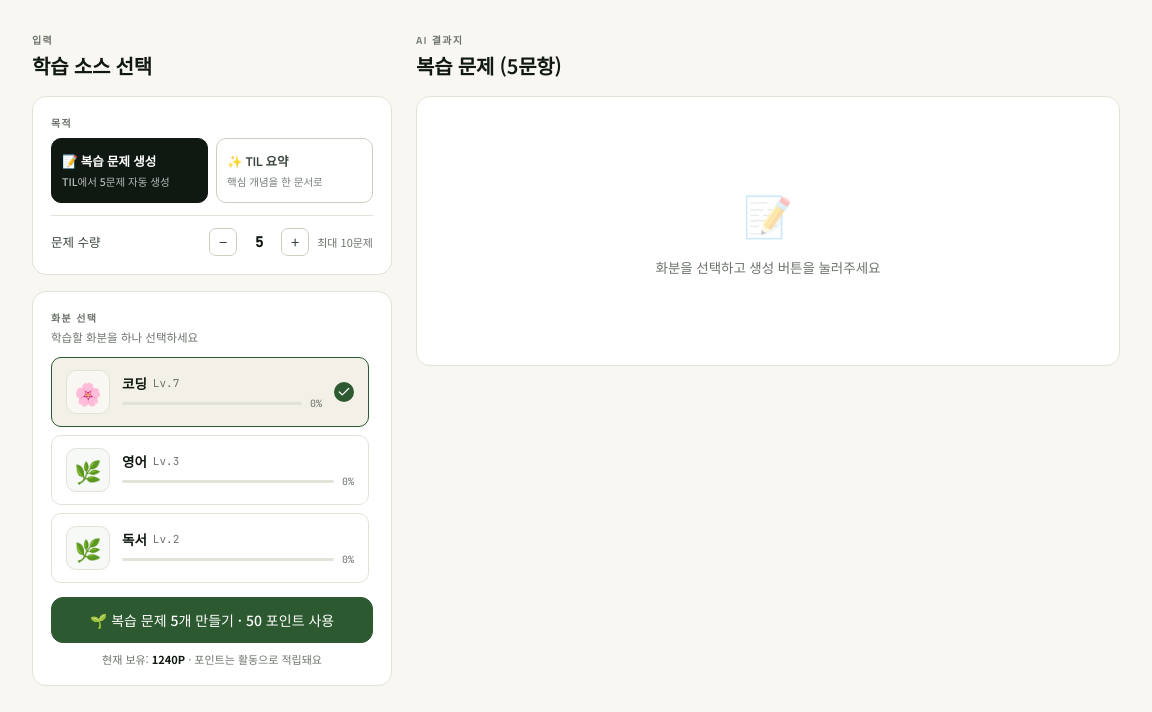
Test: 생성 전/후 화면 › 생성 버튼 클릭 후 로딩 메시지가 표시된다
Expected: the text "코딩" is shown, 122,373 -> 147,393
// 버튼 존재 여부가 아닌 화분 목록 로딩 완료를 기다려 potId 설정 보장
Click the button "🌱 복습 문제 5개 만들기 · 50 포인트 사용": (212, 620) 51,597 -> 373,643
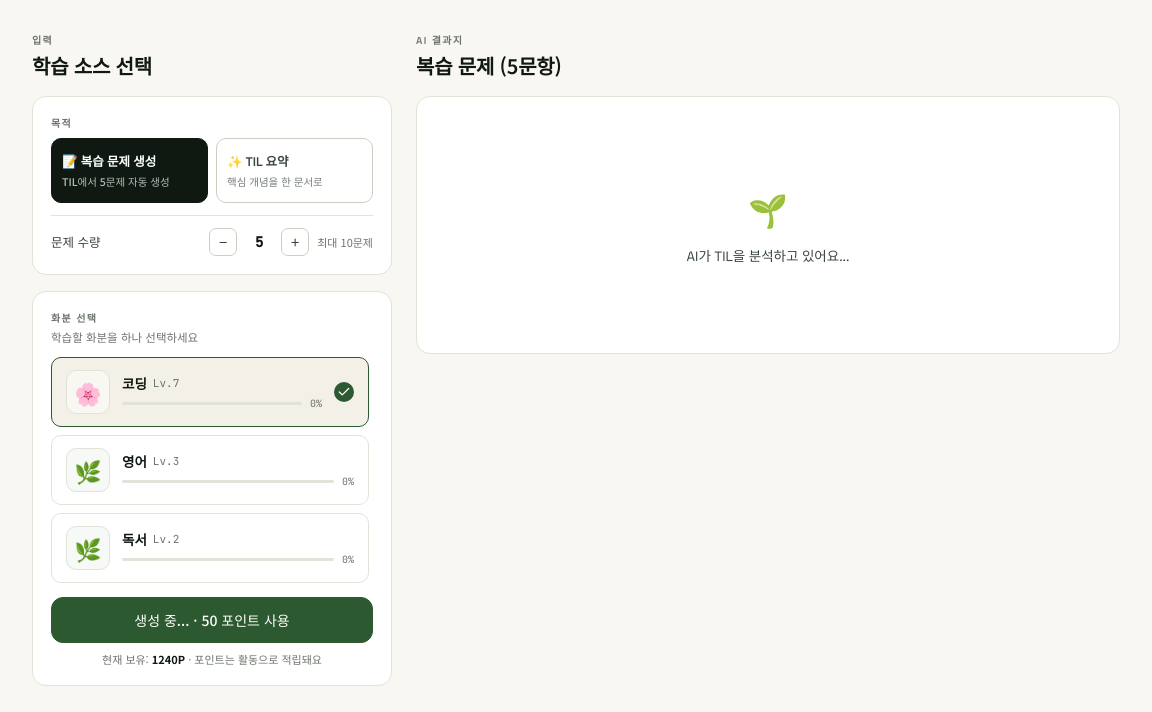
Expected: the text "AI가 TIL을 분석하고 있어요..." is shown, 687,245 -> 849,265
